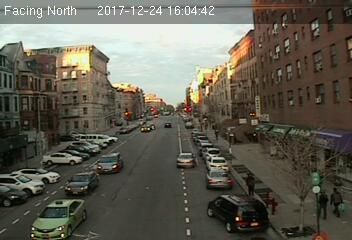car: (203, 191, 270, 231), (30, 197, 88, 240), (63, 172, 98, 196), (204, 169, 235, 191), (97, 153, 122, 172), (175, 152, 196, 167), (207, 156, 229, 170)
